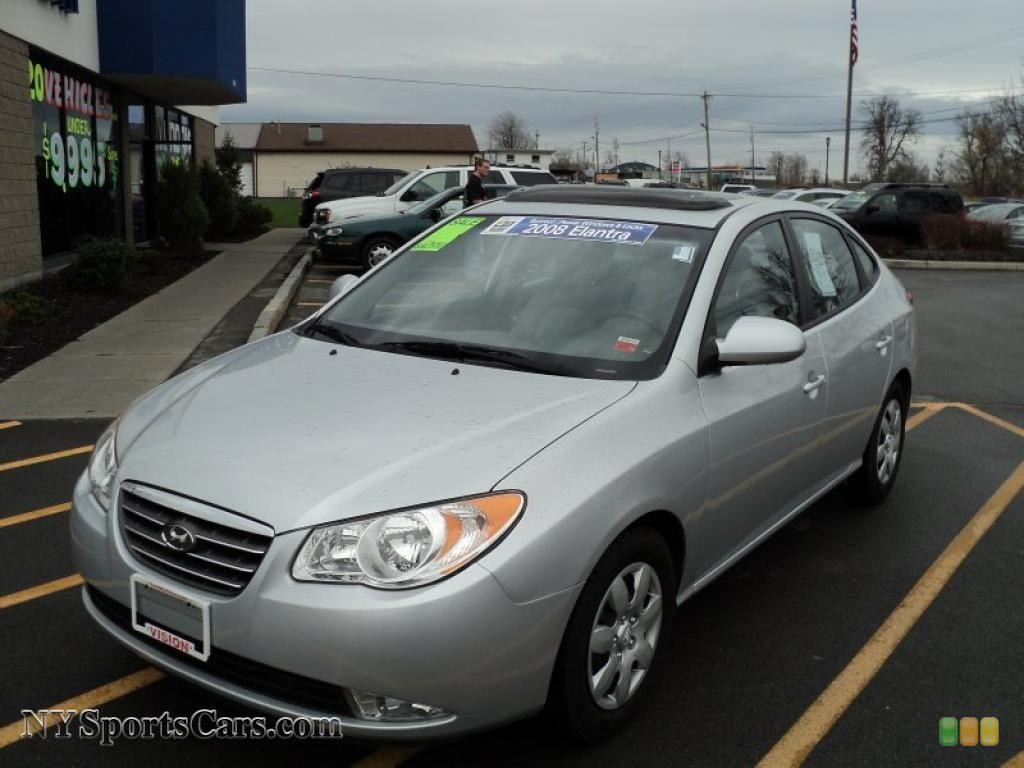Sedan: (68, 179, 919, 745)
